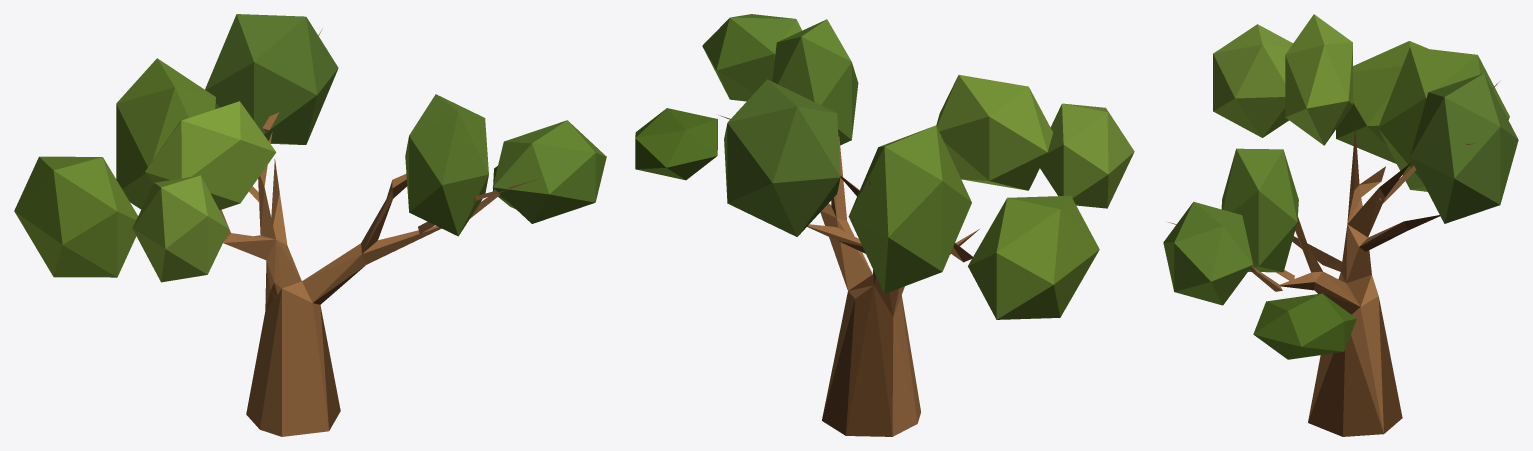
The model's file is dragon_tree_bloom_far.glb.
3 renders of one model, left to right at view 1: azimuth 30°, elevation 25°; view 2: azimuth 150°, elevation 25°; view 3: azimuth 270°, elevation 25°, orthographic. The views are drawn at different scales.
Parts seen in each view (by area): view 1: dragon_tree_bloom_far; view 2: dragon_tree_bloom_far; view 3: dragon_tree_bloom_far.
Part boxes in pixels (left/top/right/bottom): dragon_tree_bloom_far: left=14, top=14, right=606, bottom=436; dragon_tree_bloom_far: left=635, top=14, right=1134, bottom=436; dragon_tree_bloom_far: left=1163, top=14, right=1518, bottom=436.
Size of the model in its own units: 8.86 by 6.11 by 5.65.
